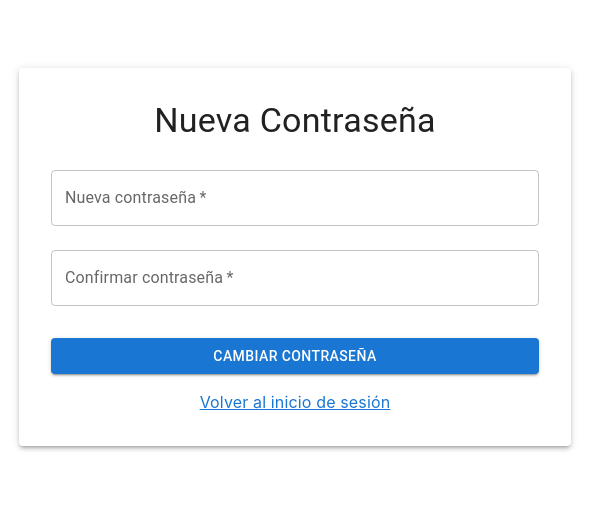
Test: ResetPage › con token › muestra error si la contraseña es muy corta
The image size is (591, 519).
Step 1. Type "12" into the password field labelled "Nueva contraseña *" → [295, 198], box [51,170,539,226]
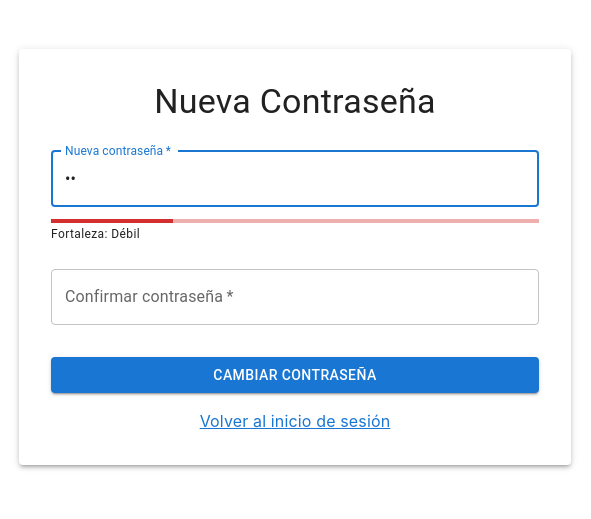
Step 2. Type "12" into the password field labelled "Confirmar contraseña *" → [295, 297], box [51,269,539,325]
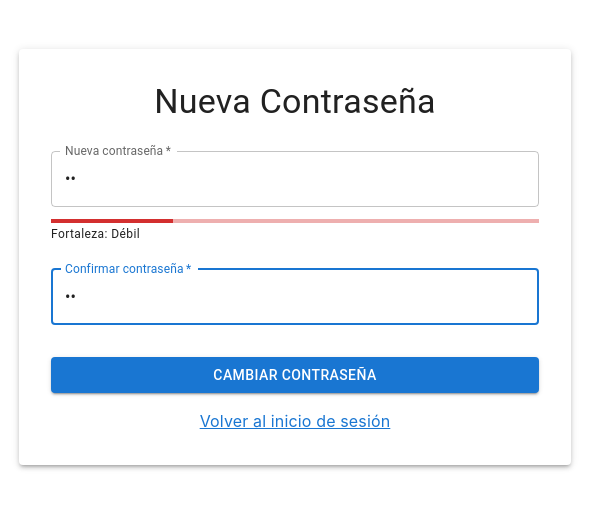
Step 3. Click the button "Cambiar contraseña" → [295, 375], box [51,357,539,393]
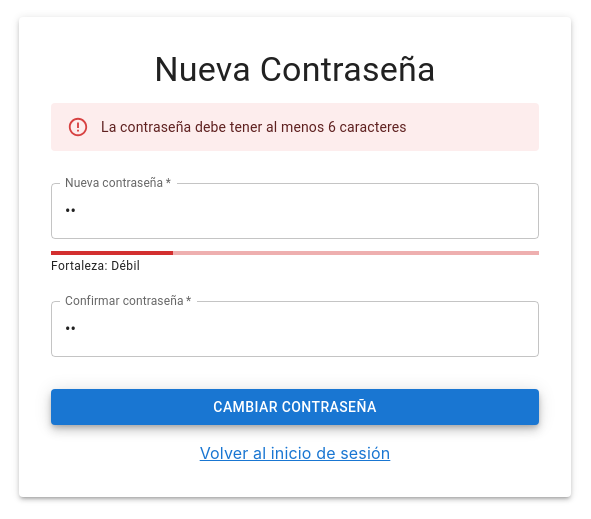
expect the text "La contraseña debe tener al menos 6 caracteres" is shown: met, box [101,119,407,135]
